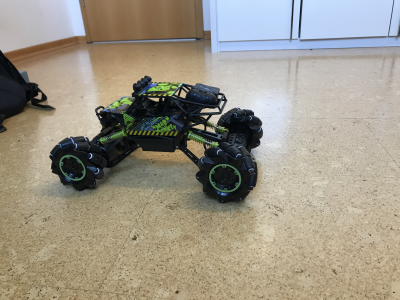remote control car: (47, 73, 267, 207)
